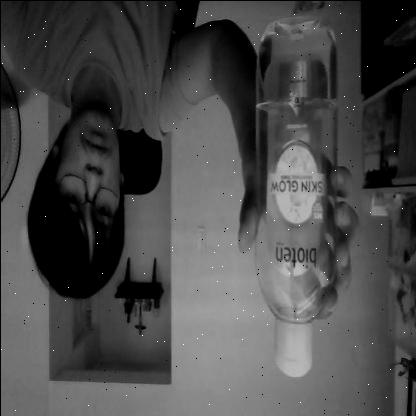Plastic Bottle: (247, 17, 344, 382)
